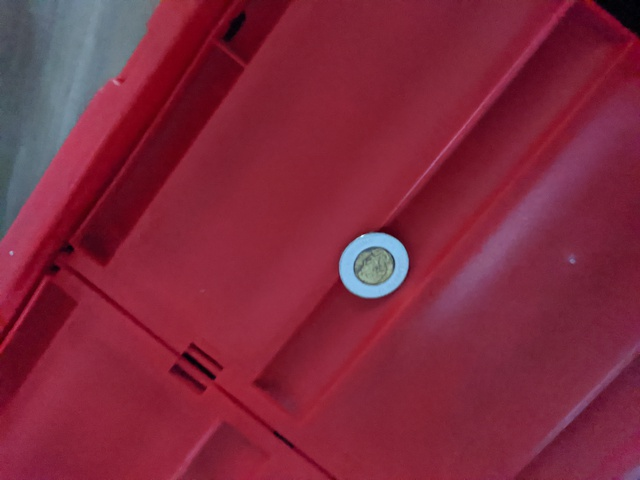twonie: (331, 220, 410, 297)
